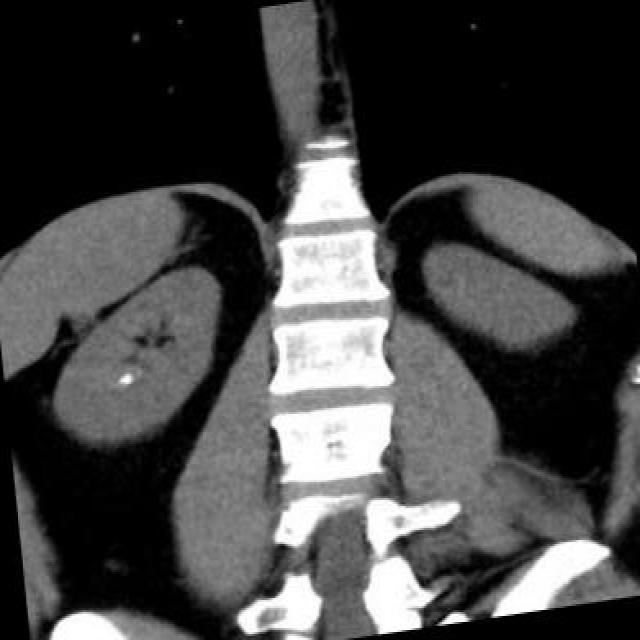Tas_Var: (115, 371, 132, 389)
